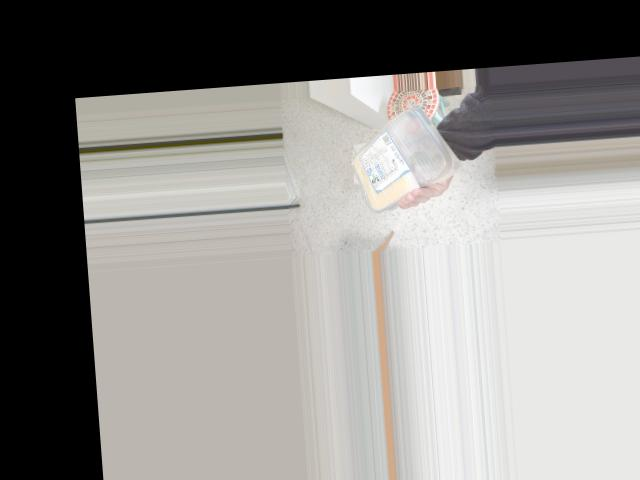cheese: (337, 101, 450, 203)
